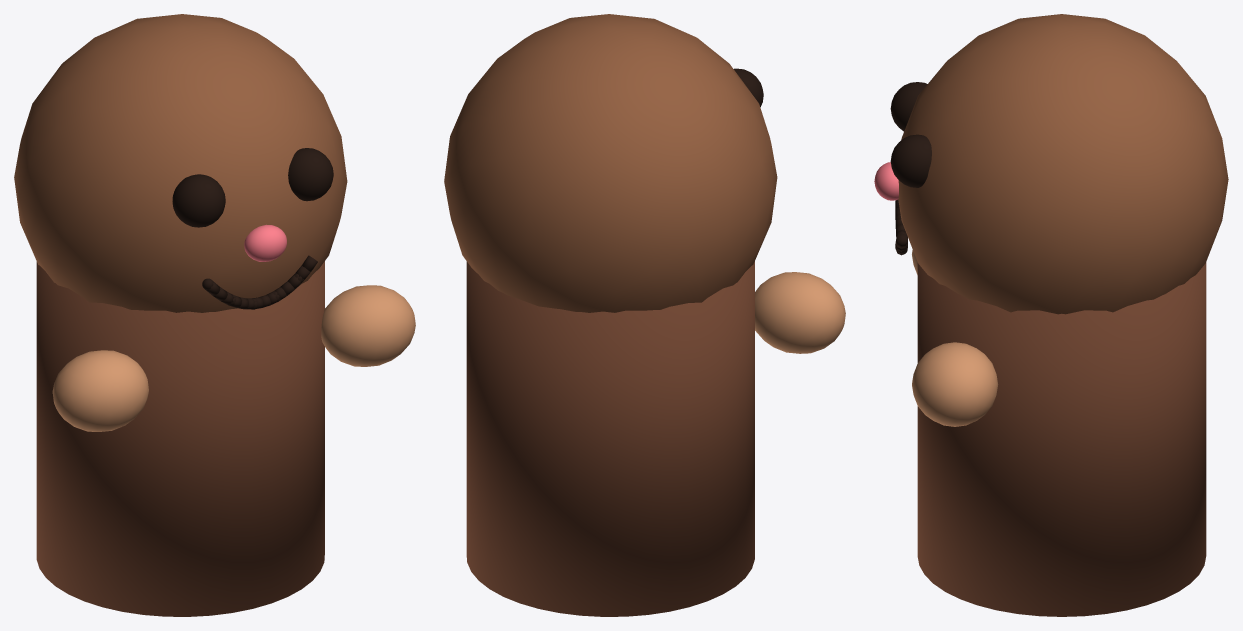
File: SimpleMole.obj
3 renders of one model, left to right at view 1: azimuth 30°, elevation 25°; view 2: azimuth 150°, elevation 25°; view 3: azimuth 270°, elevation 25°, orthographic.
Visible parts, largest first — view 1: 01_BrownCylinderBody, 02_RoundHead, 03_L_SmallHand, 03_R_SmallHand, 04_L_BlackEye, 04_R_BlackEye, 05_PinkNose; view 2: 01_BrownCylinderBody, 02_RoundHead, 03_L_SmallHand; view 3: 01_BrownCylinderBody, 02_RoundHead, 03_R_SmallHand, 04_R_BlackEye, 04_L_BlackEye, 05_PinkNose.
Part boxes in pixels (x1=…): 01_BrownCylinderBody: x1=36, y1=261, x2=324, y2=616; 02_RoundHead: x1=14, y1=14, x2=347, y2=312; 03_L_SmallHand: x1=52, y1=350, x2=148, y2=431; 03_R_SmallHand: x1=321, y1=285, x2=415, y2=366; 04_L_BlackEye: x1=172, y1=174, x2=225, y2=227; 04_R_BlackEye: x1=288, y1=148, x2=333, y2=201; 05_PinkNose: x1=244, y1=224, x2=286, y2=261; 01_BrownCylinderBody: x1=466, y1=261, x2=754, y2=616; 02_RoundHead: x1=444, y1=14, x2=777, y2=312; 03_L_SmallHand: x1=755, y1=272, x2=845, y2=353; 01_BrownCylinderBody: x1=917, y1=262, x2=1206, y2=616; 02_RoundHead: x1=898, y1=14, x2=1228, y2=314; 03_R_SmallHand: x1=912, y1=342, x2=998, y2=426; 04_R_BlackEye: x1=890, y1=134, x2=931, y2=187; 04_L_BlackEye: x1=890, y1=82, x2=927, y2=131; 05_PinkNose: x1=874, y1=162, x2=898, y2=200.
Size of the model in its own units: 0.8056 by 1.15 by 0.6991.
